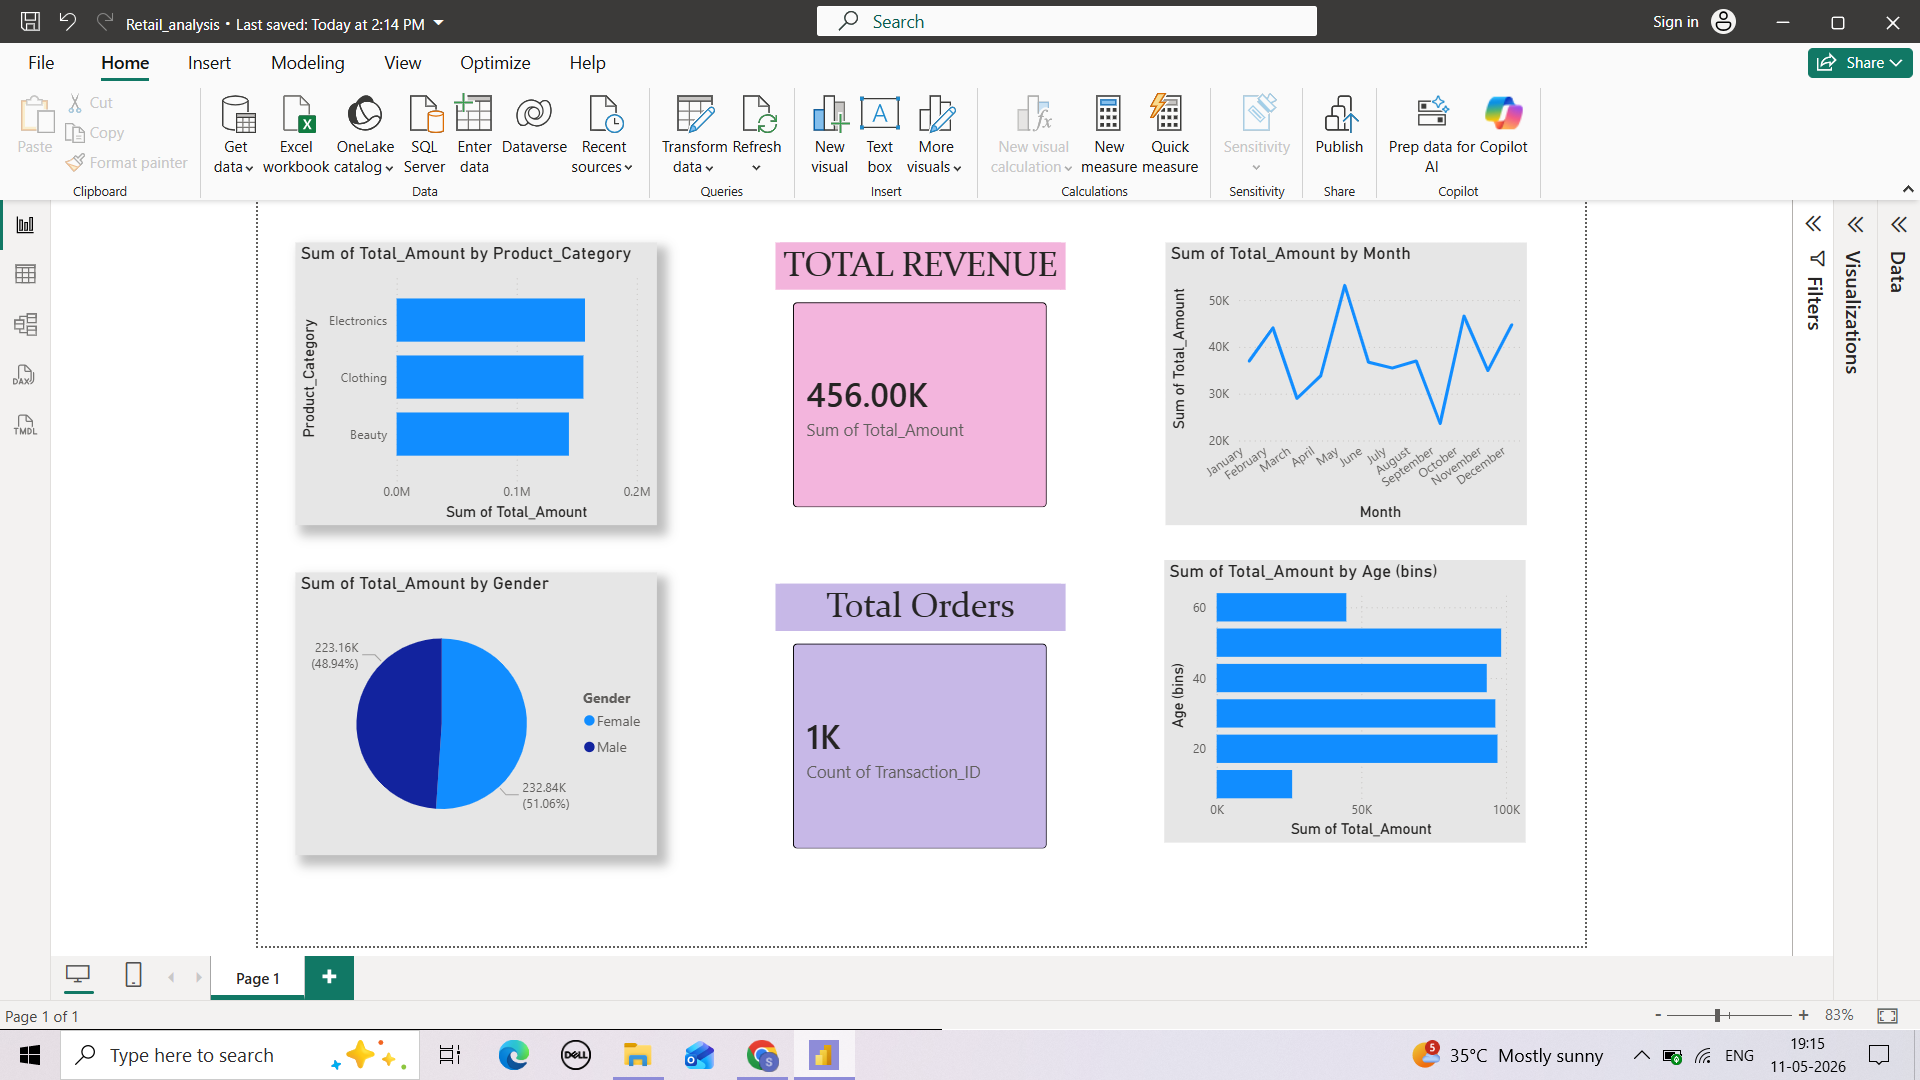

The page's visual inventory and layout, read from the dashboard file:
{"tool":"powerbi","page":{"name":"Page 1","canvas":[1280,720],"ordinal":0},"visuals":[{"type":"cardVisual","title":"TOTAL REVENUE","fields":{"Data":["Sum(retail_sales_dataset1.Total_Amount)"]},"box":[499.5,41.2,279.9,273.1],"z":0},{"type":"cardVisual","title":"Total Orders","fields":{"Data":["CountNonNull(retail_sales_dataset1.Transaction_ID)"]},"box":[499.5,370.5,279.9,273.1],"z":1},{"type":"clusteredBarChart","fields":{"Category":["retail_sales_dataset1.Product_Category"],"Y":["Sum(retail_sales_dataset1.Total_Amount)"]},"box":[35.7,41.2,348.5,273.1],"z":2},{"type":"pieChart","fields":{"Category":["retail_sales_dataset1.Gender"],"Y":["Sum(retail_sales_dataset1.Total_Amount)"]},"box":[35.7,359.5,348.5,273.1],"z":3},{"type":"lineChart","fields":{"Category":["retail_sales_dataset1.Date.Variation.Date Hierarchy.Month"],"Y":["Sum(retail_sales_dataset1.Total_Amount)"]},"box":[875.5,41.2,348.5,273.1],"z":4},{"type":"barChart","fields":{"Category":["retail_sales_dataset1.Age (bins)"],"Y":["Sum(retail_sales_dataset1.Total_Amount)"]},"box":[875,347,349,273],"z":5}]}

Visuals, with their boxes on the page's 1280x720 design canvas (x1, y1, x2, y2). These are canvas units, not pixel positions in the 1920x1080 screenshot, which may show the page scaled, cropped or inside an application window:
"TOTAL REVENUE" cardVisual: l=500, t=41, r=779, b=314
"Total Orders" cardVisual: l=500, t=370, r=779, b=644
clusteredBarChart - retail_sales_dataset1.Product_Category x Sum(retail_sales_dataset1.Total_Amount): l=36, t=41, r=384, b=314
pieChart - retail_sales_dataset1.Gender x Sum(retail_sales_dataset1.Total_Amount): l=36, t=360, r=384, b=633
lineChart - retail_sales_dataset1.Date.Variation.Date Hierarchy.Month x Sum(retail_sales_dataset1.Total_Amount): l=876, t=41, r=1224, b=314
barChart - retail_sales_dataset1.Age (bins) x Sum(retail_sales_dataset1.Total_Amount): l=875, t=347, r=1224, b=620
